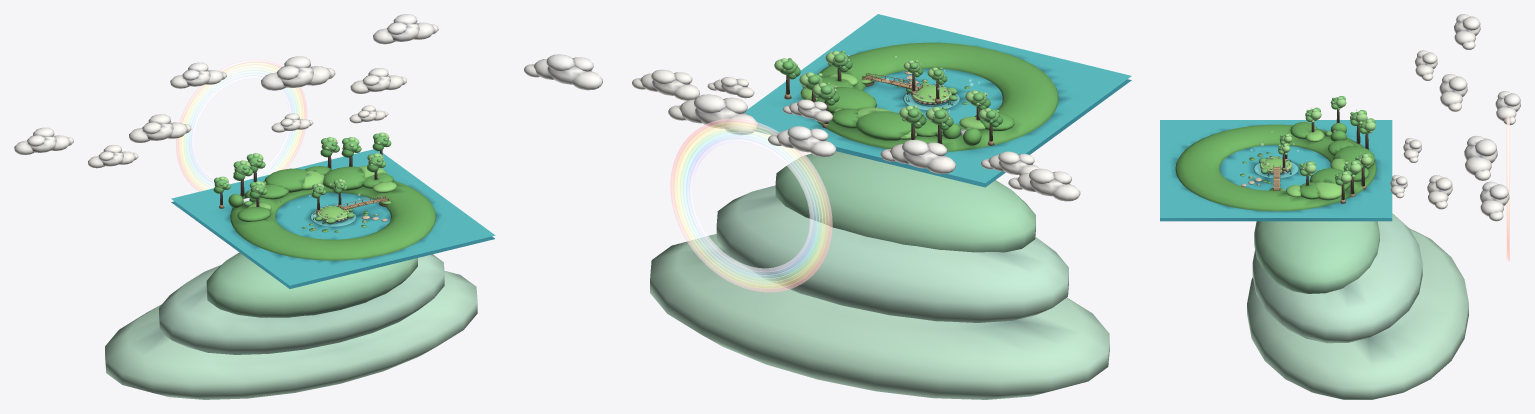
The model's file is home_environment.glb.
3 views of the same model, side by side, from view 1: azimuth 30°, elevation 25°; view 2: azimuth 150°, elevation 25°; view 3: azimuth 270°, elevation 25° (orthographic). The views are drawn at different scales.
Visible parts, largest first — view 1: ENV_Merged_HillFar, ENV_Merged_Water, ENV_Merged_GrassShade, ENV_Merged_Cloud, ENV_DistantHill_0, ENV_Merged_Leaf, ENV_RiverBed, ENV_Merged_Grass, ENV_Rainbow_Red, ENV_Rainbow_Violet, ENV_Rainbow_Cyan, ENV_Rainbow_Blue (+6 smaller); view 2: ENV_Merged_HillFar, ENV_DistantHill_0, ENV_Merged_Water, ENV_Merged_GrassShade, ENV_Merged_Cloud, ENV_Rainbow_Red, ENV_Merged_Leaf, ENV_Rainbow_Orange, ENV_Rainbow_Yellow, ENV_Rainbow_Green, ENV_Rainbow_Cyan, ENV_Rainbow_Blue (+6 smaller); view 3: ENV_Merged_HillFar, ENV_Merged_Water, ENV_Merged_GrassShade, ENV_DistantHill_0, ENV_Merged_Cloud, ENV_Merged_Leaf, ENV_Merged_Grass, ENV_Merged_LeafLit, ENV_RiverBed, ENV_Merged_Bark, ENV_Rainbow_Red, ENV_Rainbow_Orange.
Part boxes in pixels (x1=…): ENV_Merged_HillFar: x1=105, y1=254, x2=477, y2=399; ENV_Merged_Water: x1=171, y1=149, x2=495, y2=285; ENV_Merged_GrassShade: x1=228, y1=166, x2=436, y2=260; ENV_Merged_Cloud: x1=14, y1=14, x2=438, y2=168; ENV_DistantHill_0: x1=206, y1=252, x2=417, y2=317; ENV_Merged_Leaf: x1=214, y1=133, x2=391, y2=232; ENV_RiverBed: x1=171, y1=201, x2=494, y2=288; ENV_Merged_Grass: x1=247, y1=166, x2=396, y2=218; ENV_Rainbow_Red: x1=176, y1=59, x2=307, y2=191; ENV_Rainbow_Violet: x1=191, y1=76, x2=291, y2=183; ENV_Rainbow_Cyan: x1=186, y1=70, x2=296, y2=186; ENV_Rainbow_Blue: x1=189, y1=73, x2=294, y2=183; ENV_Merged_HillFar: x1=650, y1=185, x2=1109, y2=399; ENV_DistantHill_0: x1=775, y1=151, x2=1035, y2=252; ENV_Merged_Water: x1=745, y1=14, x2=1131, y2=183; ENV_Merged_GrassShade: x1=816, y1=42, x2=1058, y2=151; ENV_Merged_Cloud: x1=524, y1=54, x2=1080, y2=201; ENV_Rainbow_Red: x1=670, y1=118, x2=832, y2=292; ENV_Merged_Leaf: x1=780, y1=50, x2=999, y2=129; ENV_Rainbow_Orange: x1=673, y1=122, x2=828, y2=288; ENV_Rainbow_Yellow: x1=676, y1=125, x2=825, y2=285; ENV_Rainbow_Green: x1=679, y1=129, x2=822, y2=282; ENV_Rainbow_Cyan: x1=683, y1=132, x2=819, y2=278; ENV_Rainbow_Blue: x1=686, y1=135, x2=816, y2=275; ENV_Merged_HillFar: x1=1247, y1=213, x2=1468, y2=399; ENV_Merged_Water: x1=1160, y1=120, x2=1392, y2=217; ENV_Merged_GrassShade: x1=1175, y1=122, x2=1376, y2=211; ENV_DistantHill_0: x1=1254, y1=221, x2=1379, y2=293; ENV_Merged_Cloud: x1=1390, y1=14, x2=1520, y2=221; ENV_Merged_Leaf: x1=1240, y1=96, x2=1375, y2=185; ENV_Merged_Grass: x1=1262, y1=130, x2=1351, y2=200; ENV_Merged_LeafLit: x1=1278, y1=97, x2=1375, y2=184; ENV_RiverBed: x1=1160, y1=218, x2=1392, y2=221; ENV_Merged_Bark: x1=1281, y1=110, x2=1368, y2=203; ENV_Rainbow_Red: x1=1506, y1=114, x2=1509, y2=261; ENV_Rainbow_Orange: x1=1507, y1=118, x2=1509, y2=258.
Bounding box in the file's own units: 71.95 × 39.51 × 52.85.
